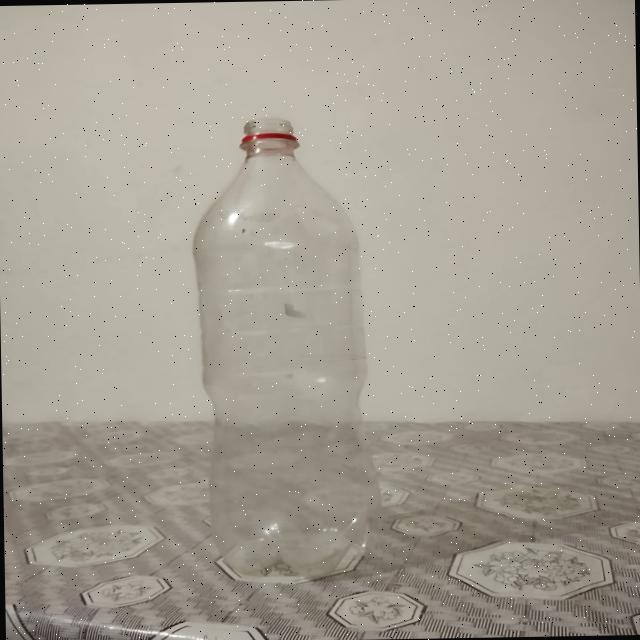bottle: (183, 114, 381, 591)
